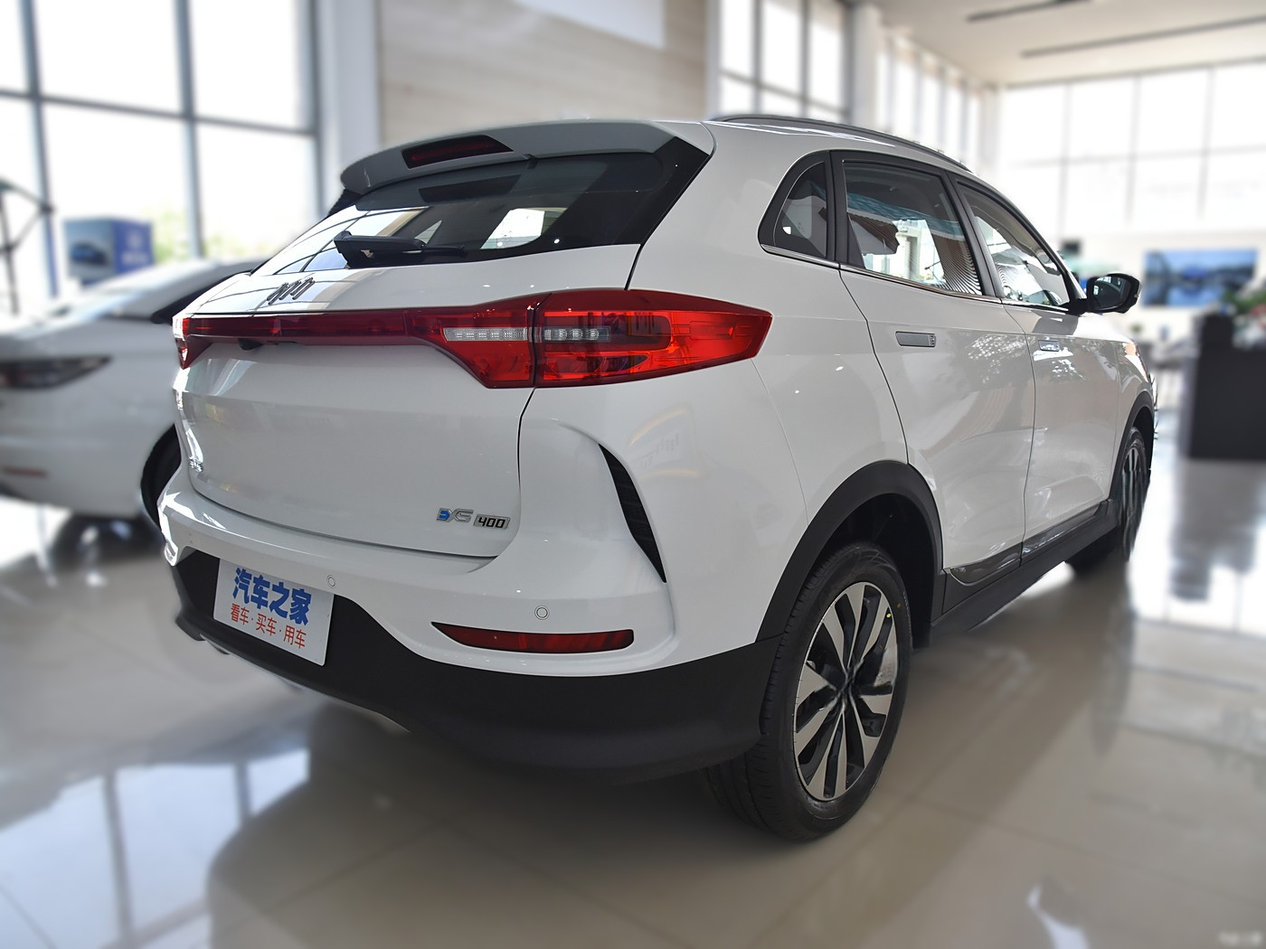WELTMEISTER: (267, 277, 314, 305)
